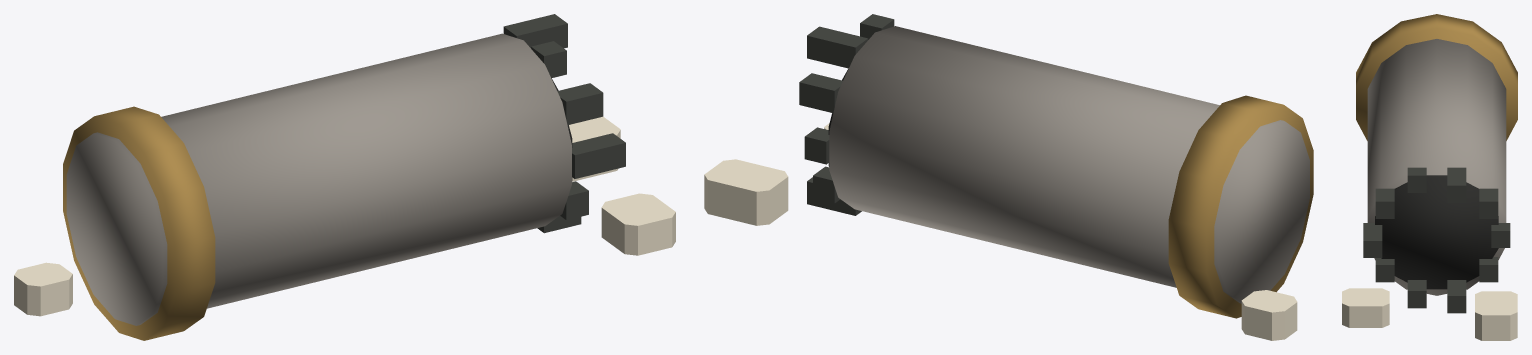
File: pipe_broken.glb
The picture shows the model from 3 angles, left to right: view 1: azimuth 30°, elevation 25°; view 2: azimuth 150°, elevation 25°; view 3: azimuth 270°, elevation 25°; orthographic projection. The views are drawn at different scales.
Parts seen in each view (by area): view 1: pipe_broken; view 2: pipe_broken; view 3: pipe_broken.
Boxes of the visible parts, box(x1,y1,x2,y2) form: pipe_broken: box(14, 14, 675, 340); pipe_broken: box(704, 14, 1313, 340); pipe_broken: box(1342, 14, 1517, 340).
Bounding box in the file's own units: 2.1 × 0.7 × 0.7412.
